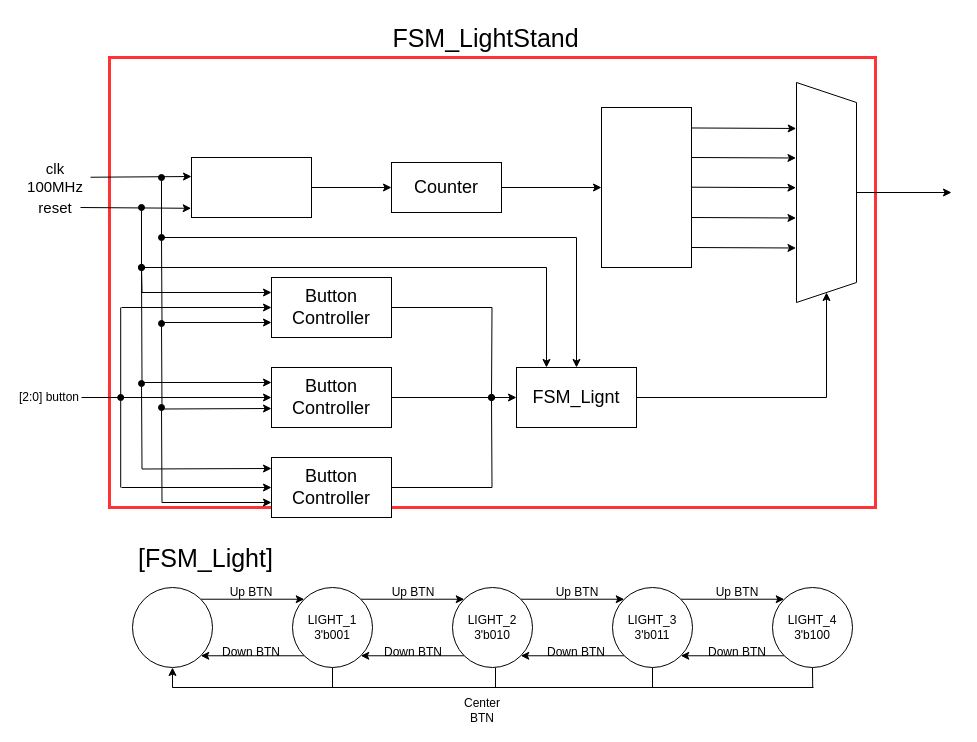
Image size: 977x742. Some labels were removed from this diagram. Here are the shapes that lost their labels. From the top down, the centre of each, then its label:
At point (251, 187): "ClockDivider".
At point (646, 187): "Comparator".
At point (826, 192): "MUX".
At point (172, 627): "LIGHT_0 3'b000".
